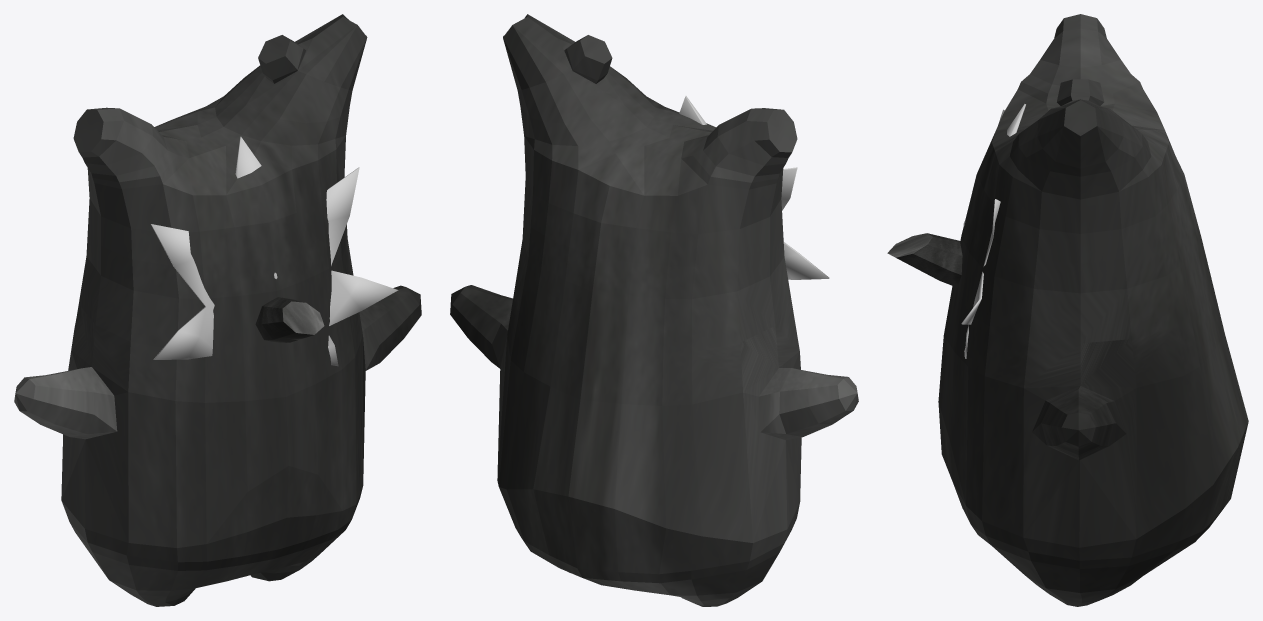
Rendered from frame_0073.obj.
3 renders of one model, left to right at view 1: azimuth 30°, elevation 25°; view 2: azimuth 150°, elevation 25°; view 3: azimuth 270°, elevation 25°, orthographic.
Visible parts, largest first — view 1: korok, leaf, nose; view 2: korok, leaf; view 3: korok, nose, leaf.
Boxes of the visible parts, box(x1,y1,x2,y2) form: korok: box(14, 14, 421, 606); leaf: box(150, 136, 398, 366); nose: box(255, 297, 324, 342); korok: box(450, 14, 858, 606); leaf: box(679, 96, 829, 279); korok: box(938, 14, 1248, 606); nose: box(887, 233, 962, 287); leaf: box(961, 104, 1025, 358).
Size of the model in its own units: 1.75 by 2.24 by 1.36.
